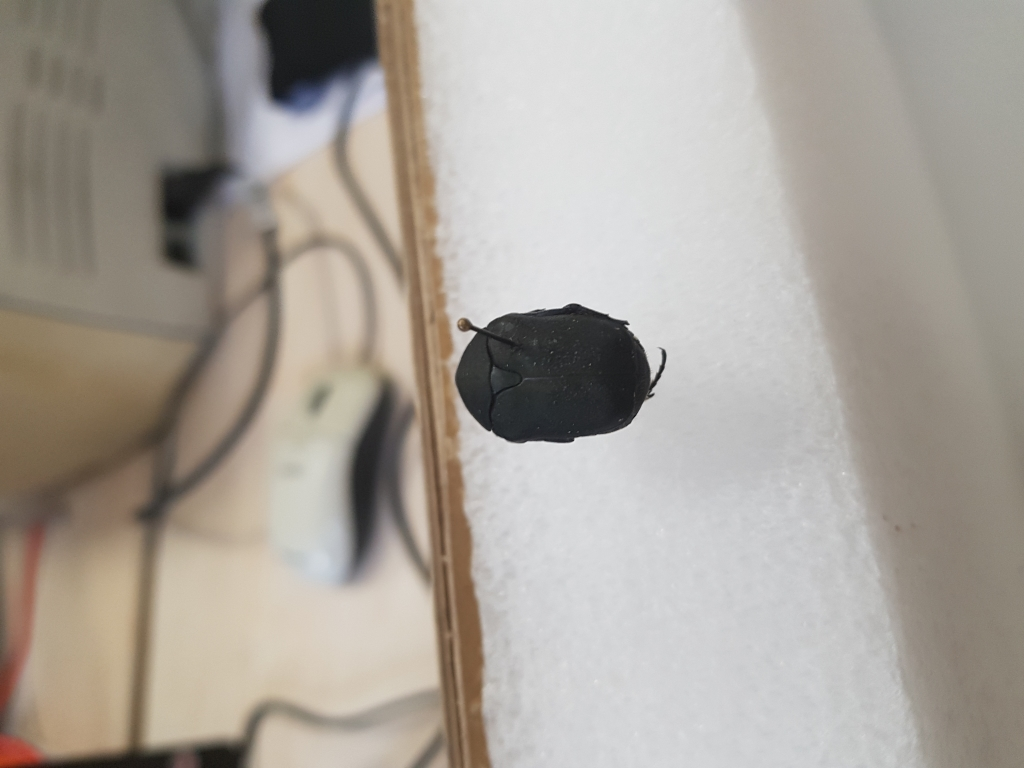Protaetia_afflicta: (451, 303, 671, 447)
